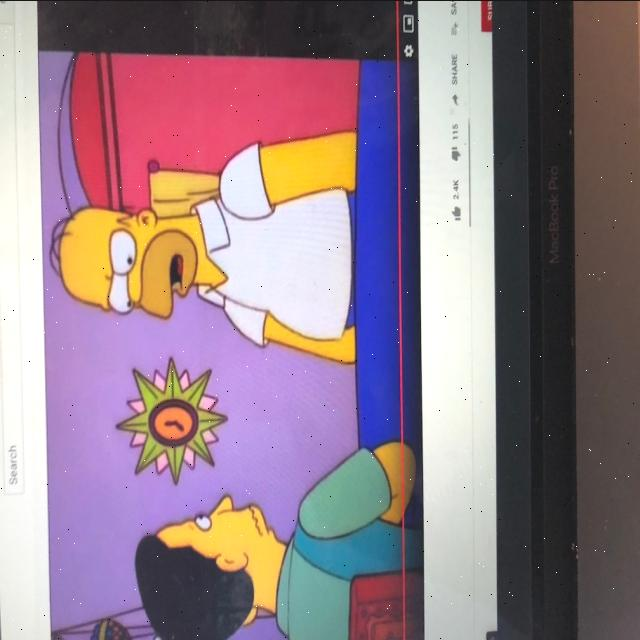Homer Simpson: (46, 198, 217, 322)
